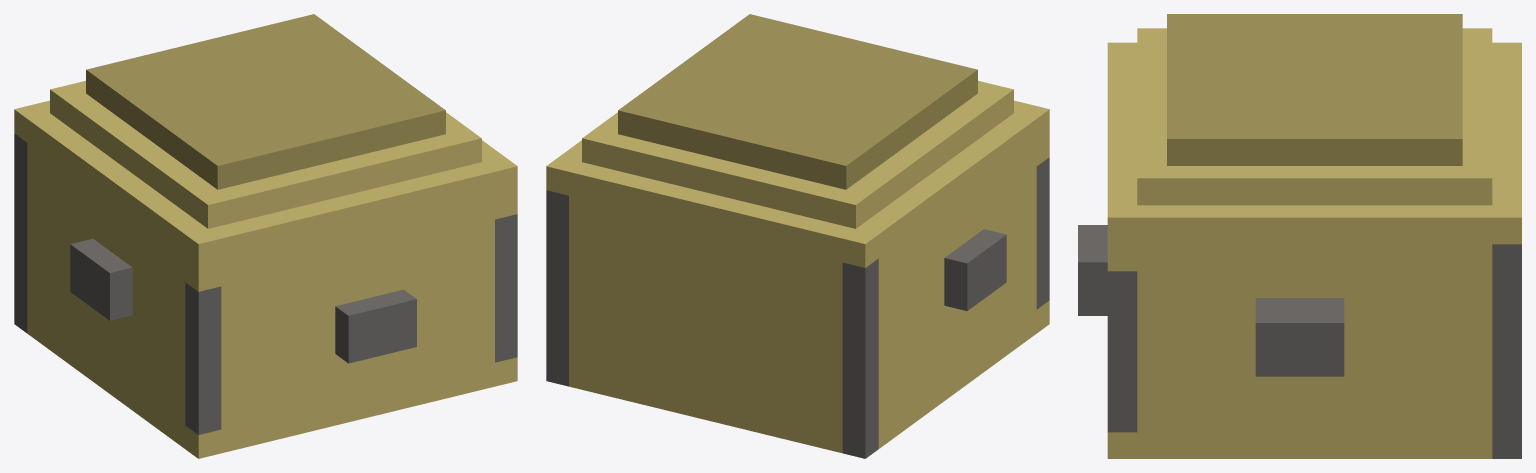
File: baul_tesoro_oro_incrustado_01.glb
3 renders of one model, left to right at view 1: azimuth 30°, elevation 25°; view 2: azimuth 150°, elevation 25°; view 3: azimuth 270°, elevation 25°, orthographic. The views are drawn at different scales.
Parts seen in each view (by area): view 1: baul_tesoro_oro_incrustado; view 2: baul_tesoro_oro_incrustado; view 3: baul_tesoro_oro_incrustado.
Part boxes in pixels (x1,y1,x2,y2): baul_tesoro_oro_incrustado: (14,14,517,458); baul_tesoro_oro_incrustado: (546,14,1049,458); baul_tesoro_oro_incrustado: (1078,14,1521,458).
Size of the model in its own units: 1.21 by 0.7857 by 1.07.
